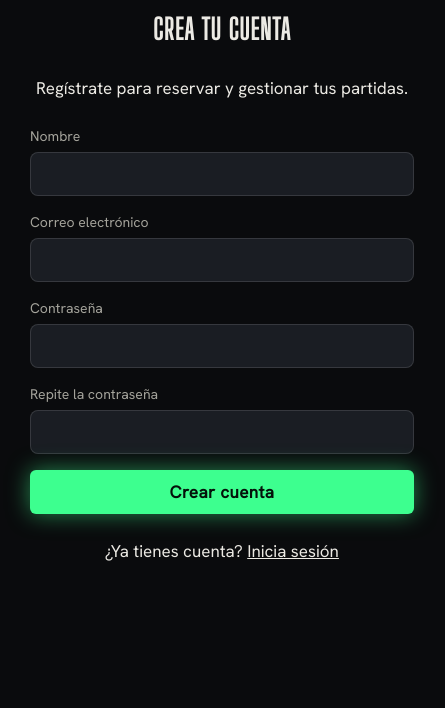
Scenario: RegisterPage › duplicate email: shows the DUPLICATE message and stays on /register
Type "Ana" into the field labelled "Nombre" at [222, 174], box [30,152,414,196]
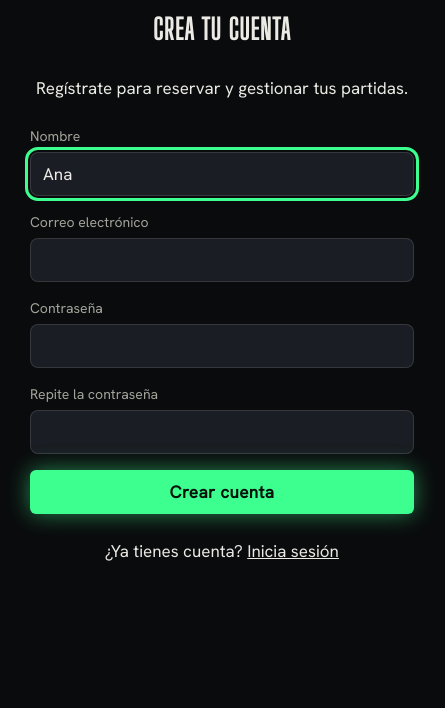
Type "ana@example.com" into the field labelled "Correo electrónico" at [222, 260], box [30,238,414,282]
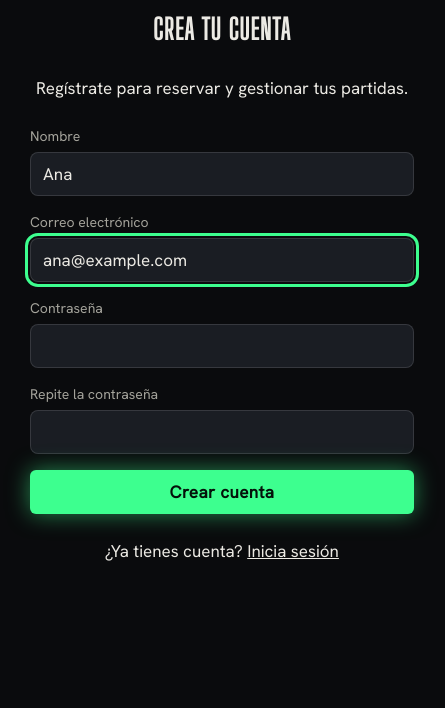
Type "secreto123" into the password field labelled "Contraseña" at [222, 346], box [30,324,414,368]
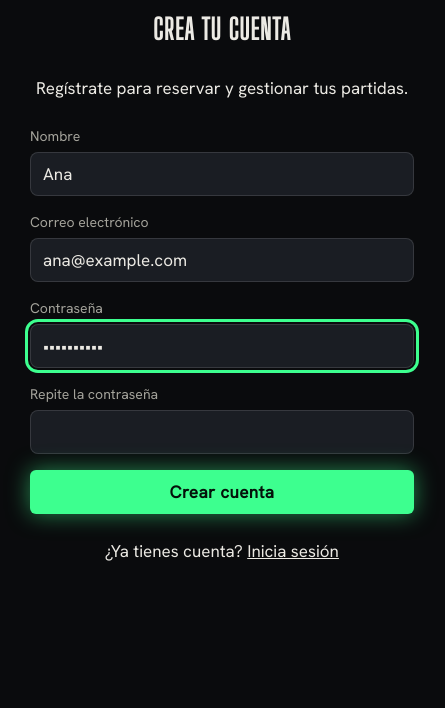
Type "secreto123" into the password field labelled "Repite la contraseña" at [222, 432], box [30,410,414,454]
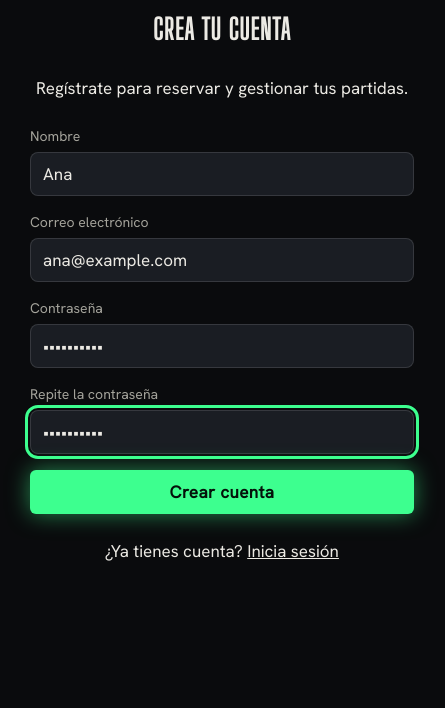
Click the button "Crear cuenta" at [222, 492], box [30,470,414,514]
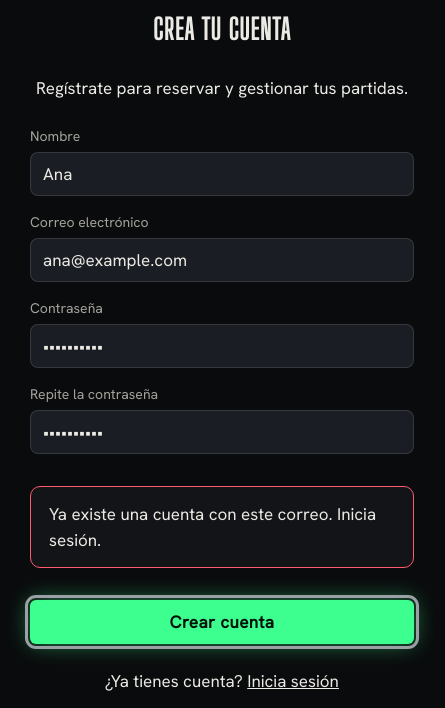
Expected: the message reads "Ya existe una cuenta con este correo. Inicia sesión.", [49,503,376,551]
